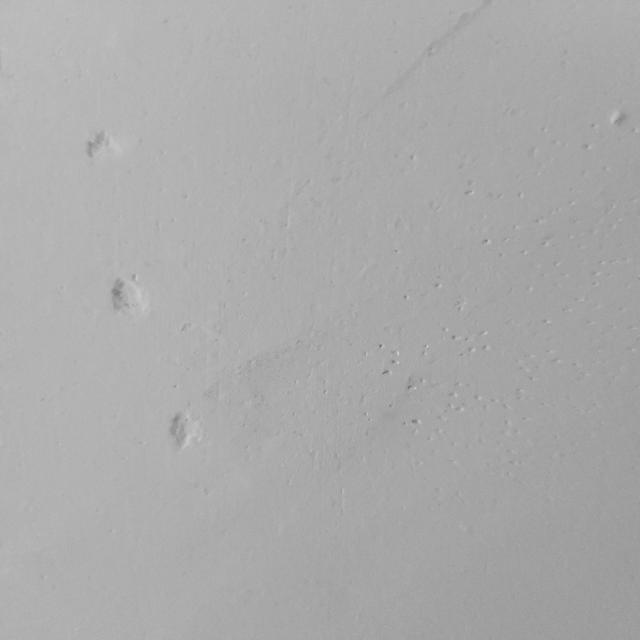rough and patchy surface: (284, 109, 638, 509), (45, 92, 235, 483)
